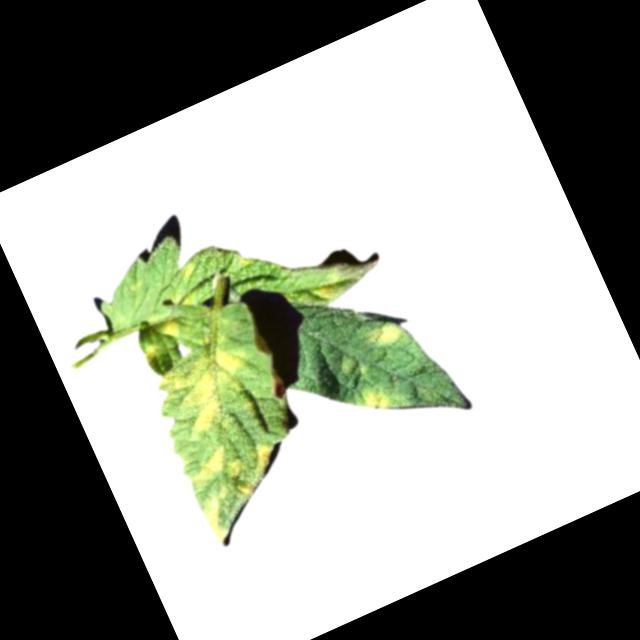Leaf_Mold: (154, 337, 265, 441), (194, 473, 272, 546), (181, 440, 246, 495), (305, 265, 351, 307), (356, 378, 396, 420), (365, 316, 408, 353), (247, 440, 282, 476), (155, 312, 187, 343), (139, 343, 160, 367)
